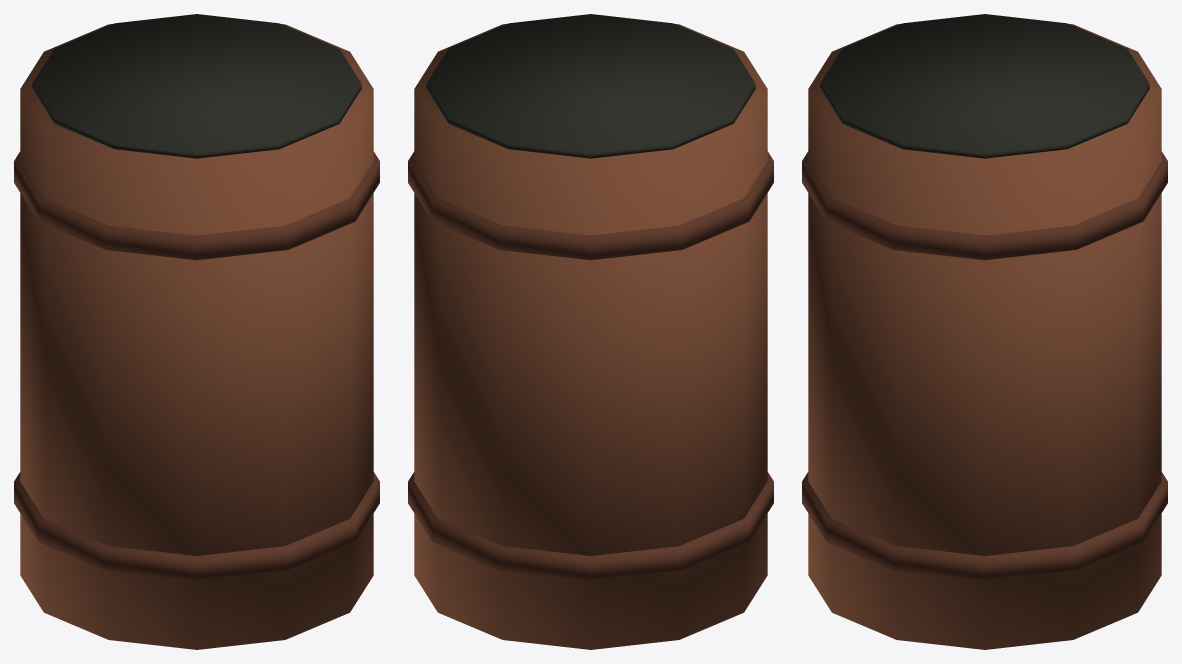
The model's file is barrel_rust.glb.
The picture shows the model from 3 angles, left to right: view 1: azimuth 30°, elevation 25°; view 2: azimuth 150°, elevation 25°; view 3: azimuth 270°, elevation 25°; orthographic projection.
Visible parts, largest first — view 1: BarrelRust; view 2: BarrelRust; view 3: BarrelRust.
Part boxes in pixels (x1,y1,x2,y2): BarrelRust: [14, 14, 379, 649]; BarrelRust: [408, 14, 773, 649]; BarrelRust: [802, 14, 1167, 649].
Size of the model in its own units: 0.6 by 0.89 by 0.6.
